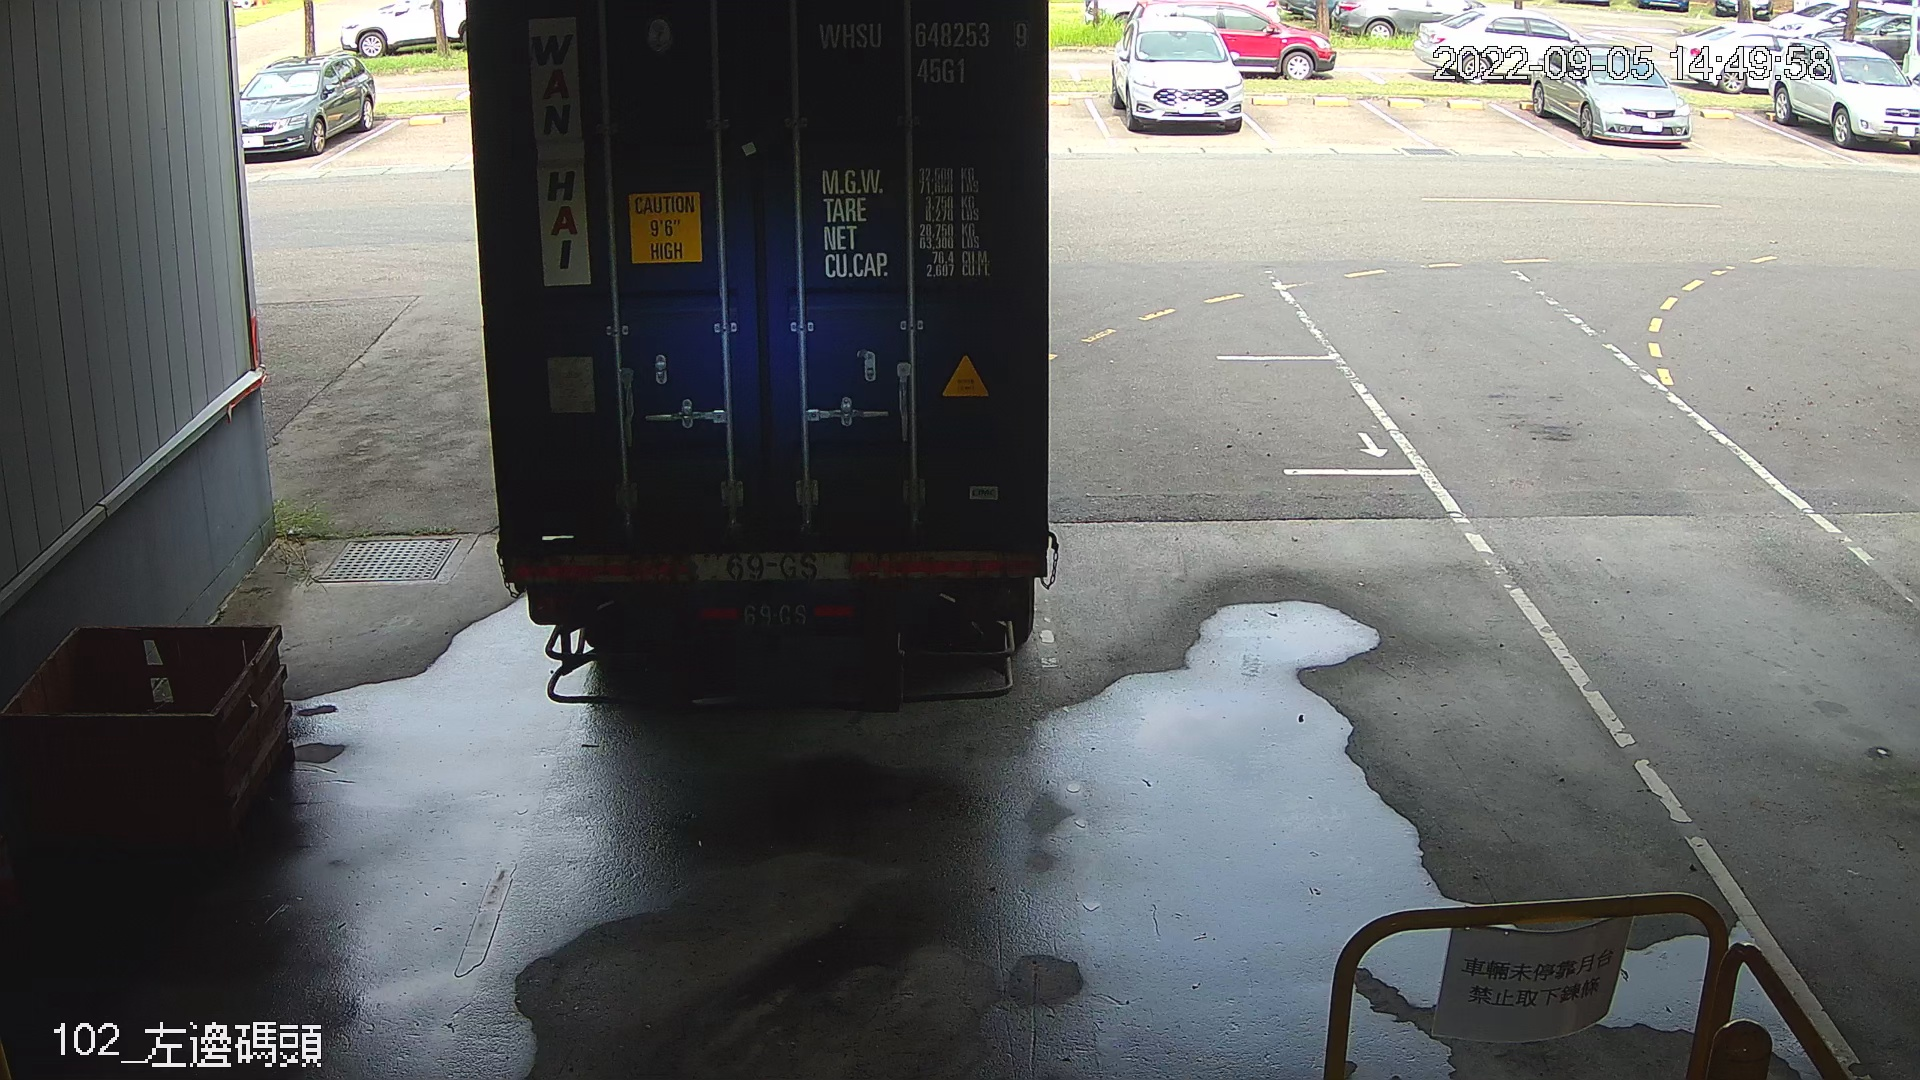container: (810, 7, 1038, 94)
